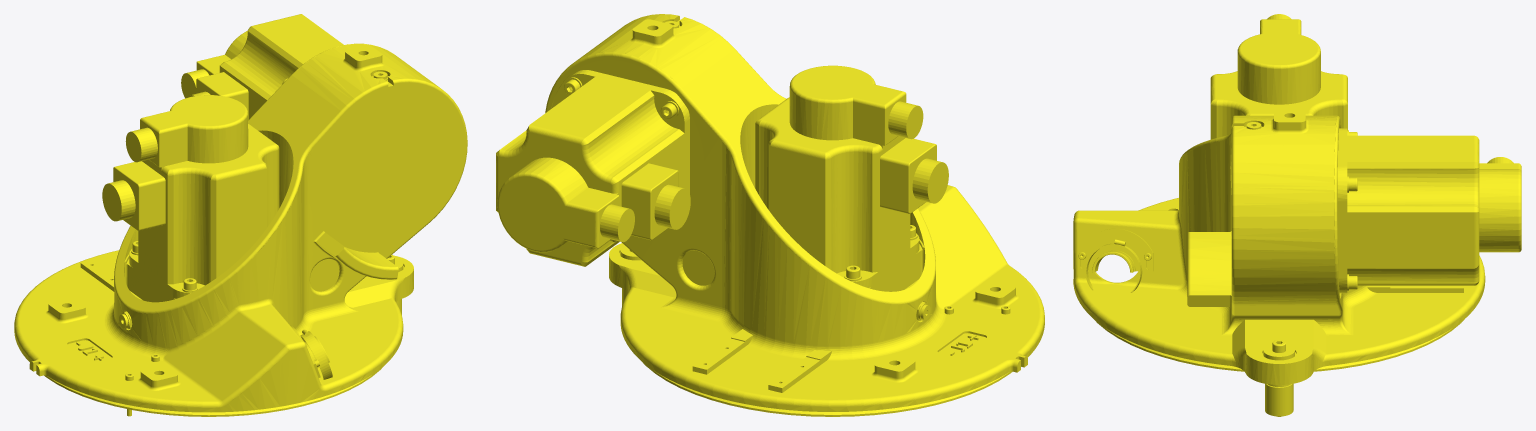
3 views of the same model, side by side, from view 1: azimuth 30°, elevation 25°; view 2: azimuth 150°, elevation 25°; view 3: azimuth 270°, elevation 25° (orthographic). The views are drawn at different scales.
Parts seen in each view (by area): view 1: Link1; view 2: Link1; view 3: Link1.
Boxes of the visible parts, box(x1,y1,x2,y2) form: Link1: box(14, 14, 467, 416); Link1: box(496, 14, 1044, 416); Link1: box(1073, 14, 1521, 416).
Bounding box in the file's own units: 0.4765 × 0.4245 × 0.3025.
